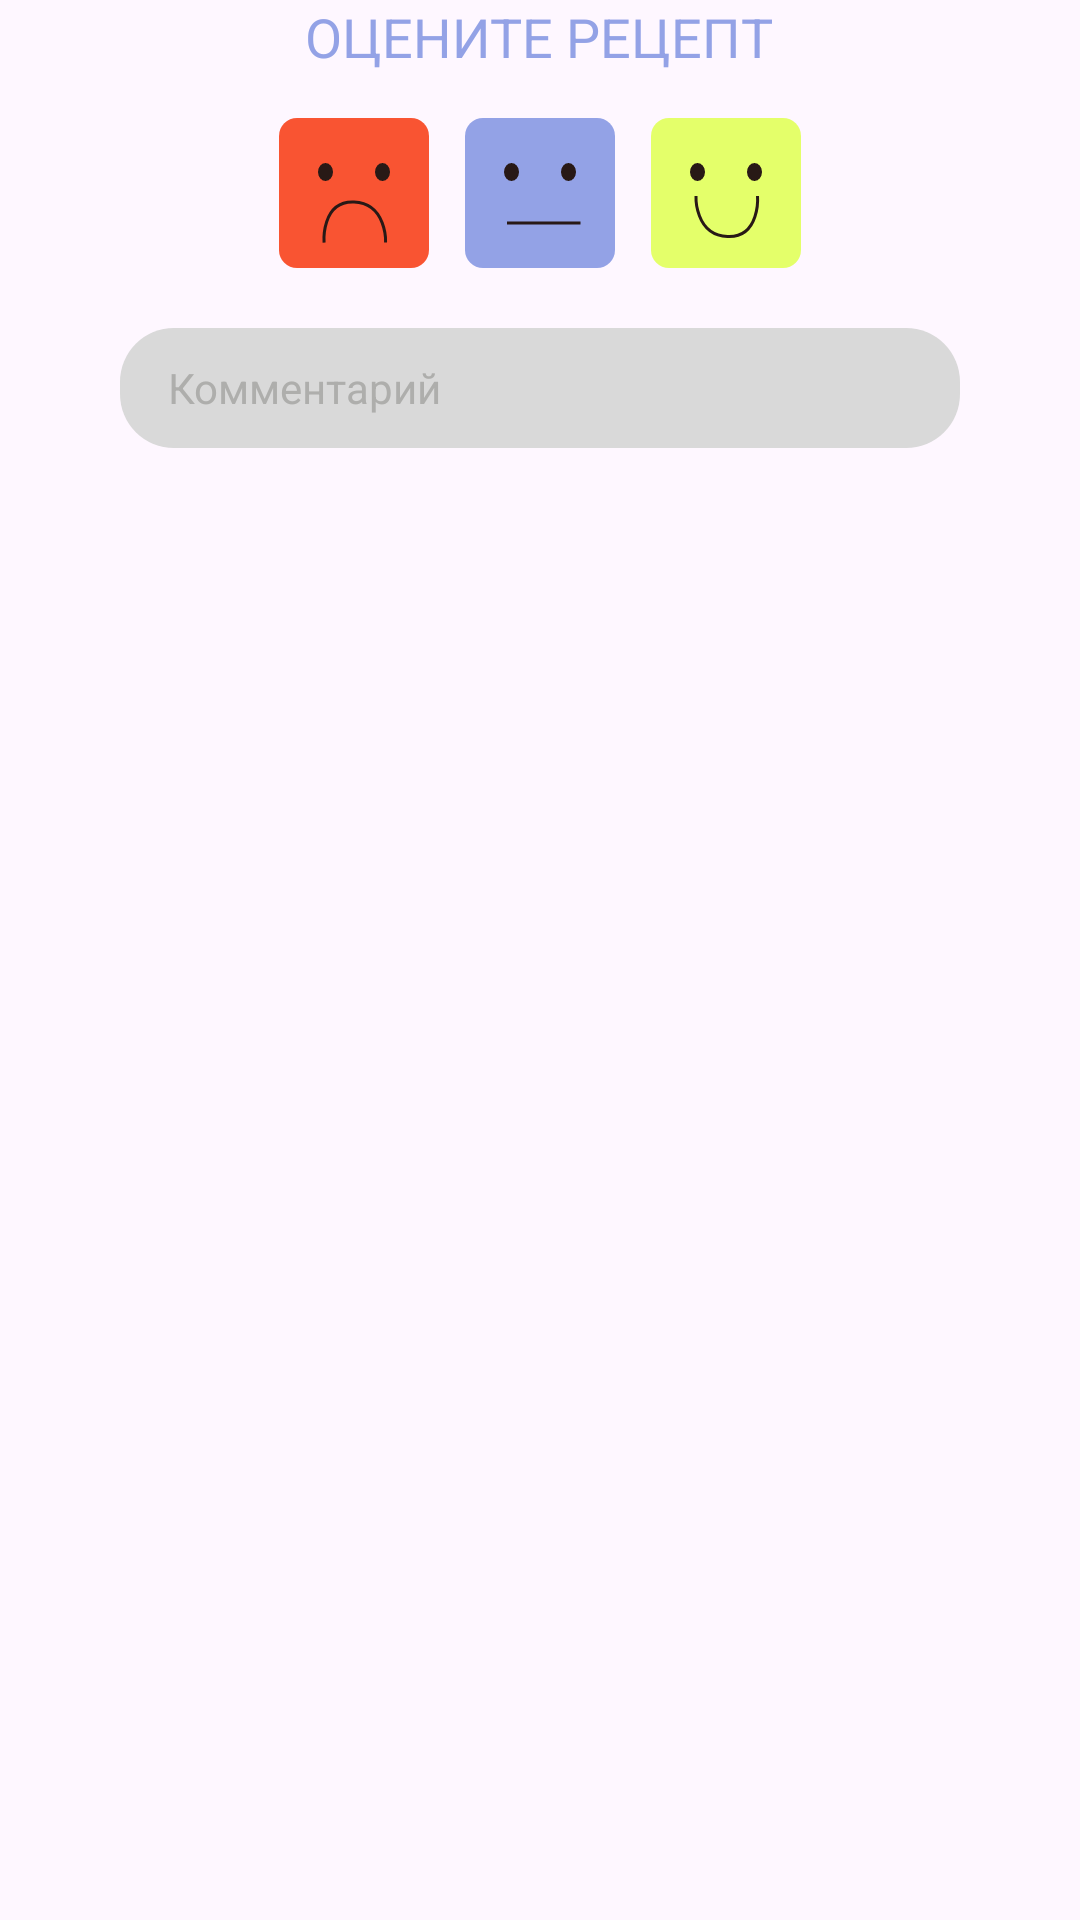

Icon bounding boxes for this 1080w x 1920h phone screenshot, format (x1, y1, x2, y2):
Нейтральная оценка: (465, 118, 615, 268)
Плохая оценка: (279, 118, 429, 268)
Хорошая оценка: (651, 118, 801, 268)
